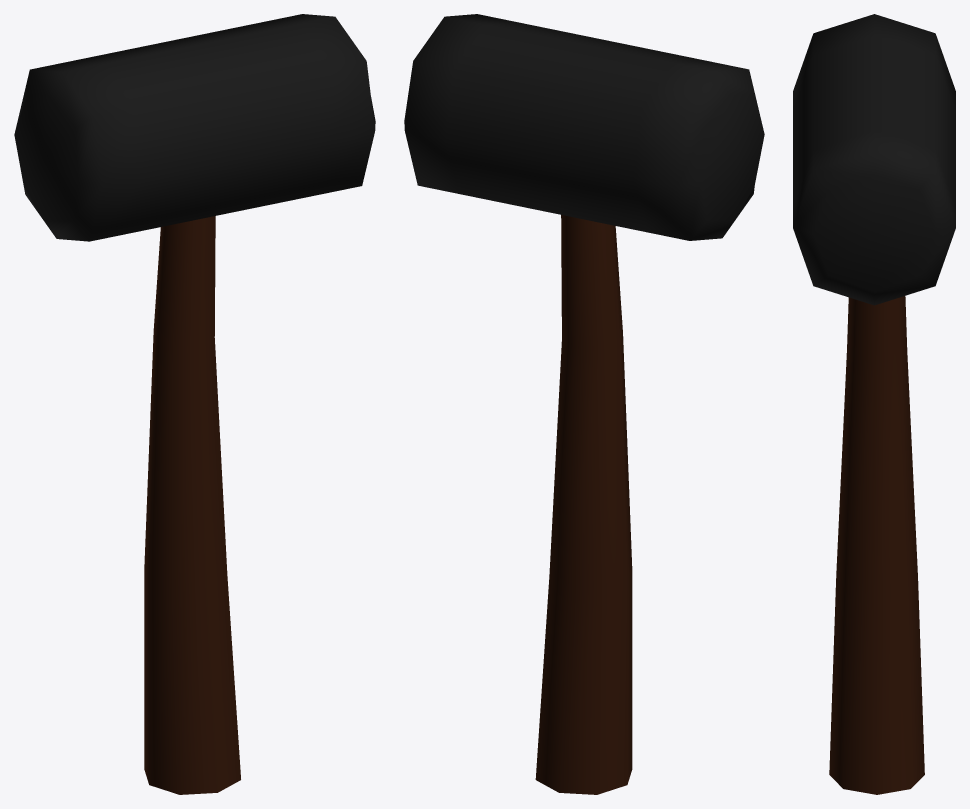
Rendered from hammer.FBX.
The picture shows the model from 3 angles, left to right: view 1: azimuth 30°, elevation 25°; view 2: azimuth 150°, elevation 25°; view 3: azimuth 270°, elevation 25°; orthographic projection. The views are drawn at different scales.
Visible parts, largest first — view 1: hammer_shaft; view 2: hammer_shaft; view 3: hammer_shaft.
Part boxes in pixels (box(x1,y1,x2,y2)): hammer_shaft: box(14, 14, 375, 794); hammer_shaft: box(404, 14, 764, 794); hammer_shaft: box(793, 14, 955, 794).
Size of the model in its own units: 11.36 by 26.16 by 5.52.
